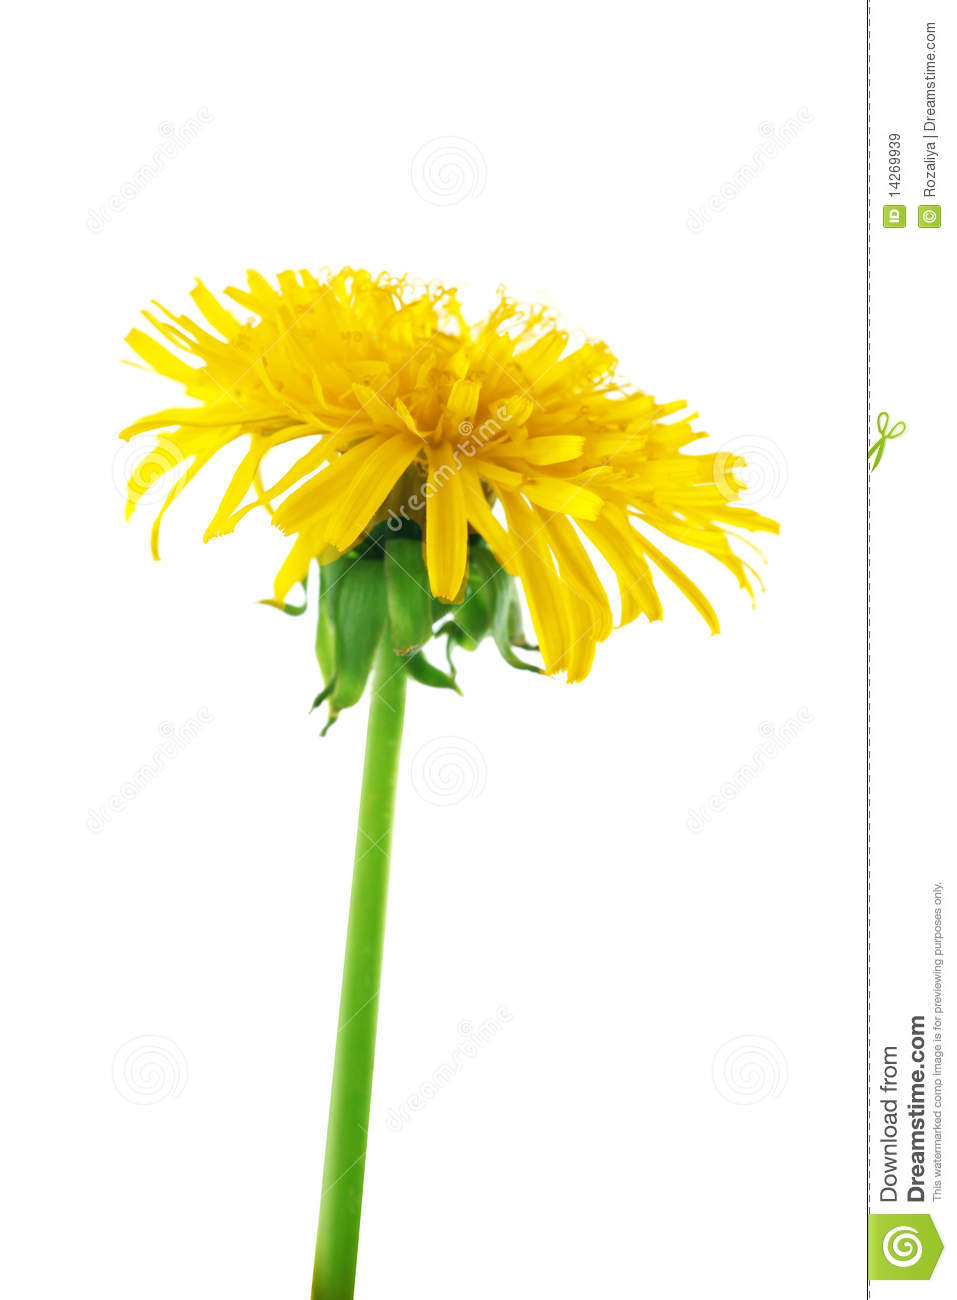dandelion: (130, 280, 751, 597)
